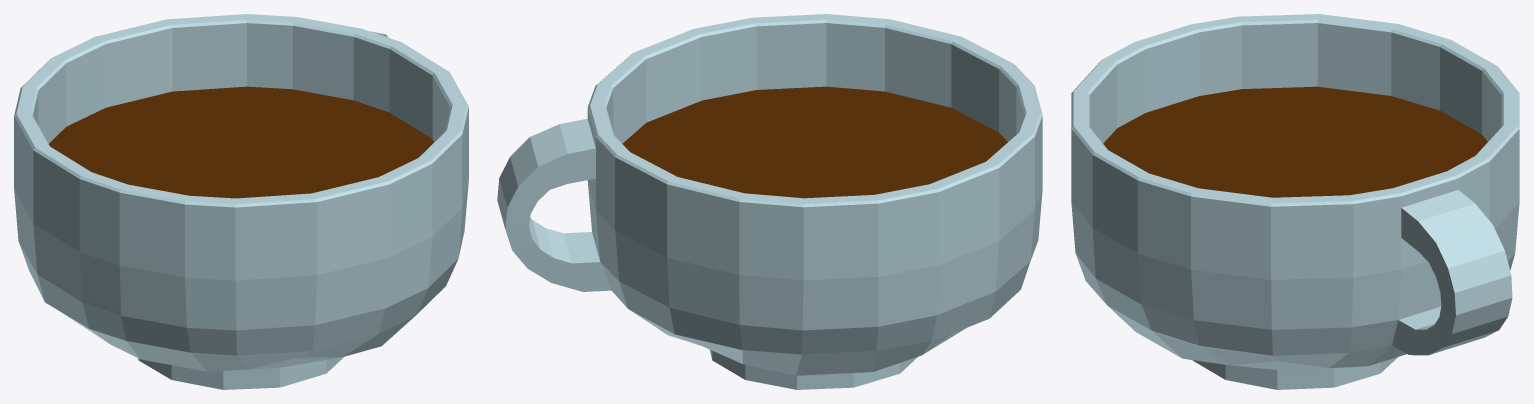
Rendered from coffee.fbx.
3 views of the same model, side by side, from view 1: azimuth 30°, elevation 25°; view 2: azimuth 150°, elevation 25°; view 3: azimuth 270°, elevation 25° (orthographic).
Visible parts, largest first — view 1: Coffee, Cup; view 2: Coffee, Cup; view 3: Coffee, Cup.
Part boxes in pixels (bbox=[...]): Coffee: bbox=[14, 14, 468, 389]; Cup: bbox=[49, 86, 433, 198]; Coffee: bbox=[497, 14, 1042, 389]; Cup: bbox=[622, 86, 1007, 198]; Coffee: bbox=[1071, 14, 1519, 389]; Cup: bbox=[1103, 86, 1487, 197].
Size of the model in its own units: 48.26 by 24.98 by 43.13.
